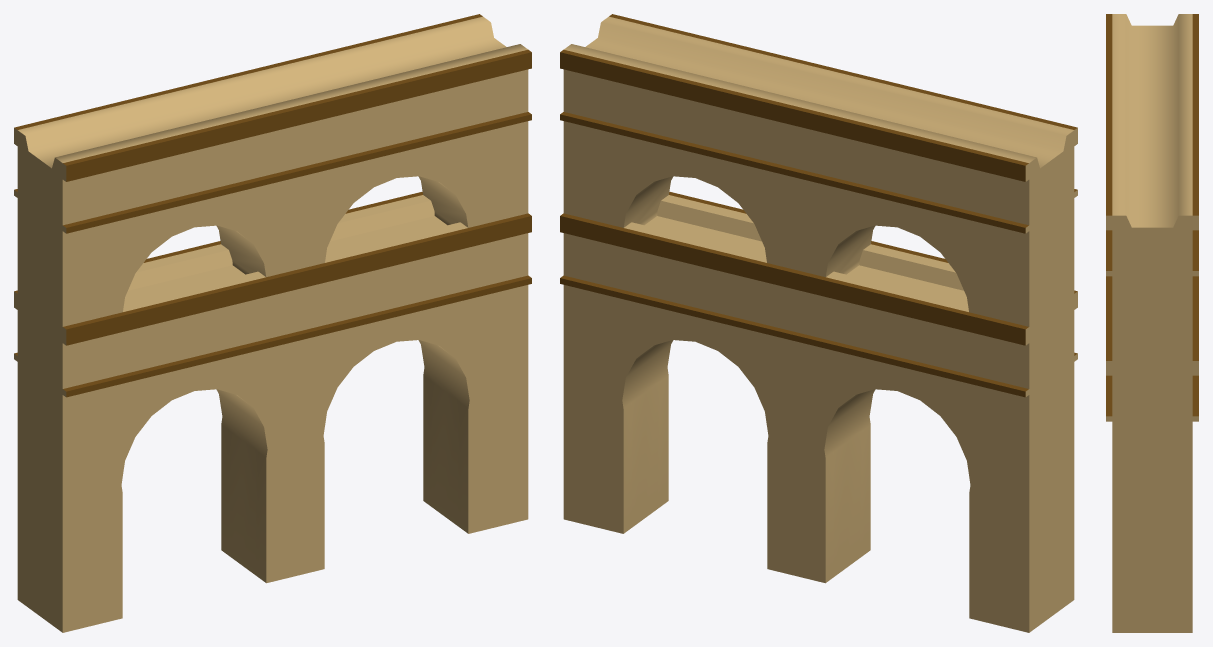
Rendered from hetrechtestukaquaduct.fbx.
3 renders of one model, left to right at view 1: azimuth 30°, elevation 25°; view 2: azimuth 150°, elevation 25°; view 3: azimuth 270°, elevation 25°, orthographic. The views are drawn at different scales.
Parts seen in each view (by area): view 1: pCube7; view 2: pCube7; view 3: pCube7.
Boxes of the visible parts, x1=… form: pCube7: x1=14, y1=14, x2=531, y2=632; pCube7: x1=560, y1=14, x2=1077, y2=632; pCube7: x1=1106, y1=14, x2=1198, y2=632.
Bounding box in the file's own units: 23.04 × 22.22 × 4.47.
